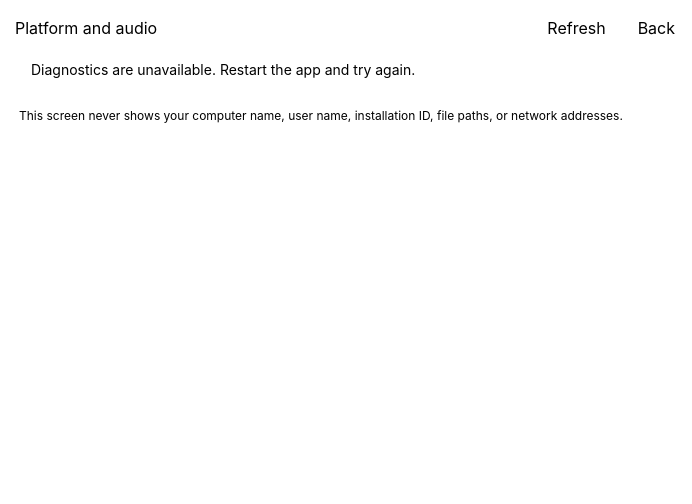
Test case: reports unavailable diagnostics and can refresh
Expected: the message shows "unavailable", x1=31 y1=61 x2=415 y2=78
Click the button "Refresh": click(576, 28) x1=535 y1=12 x2=618 y2=44
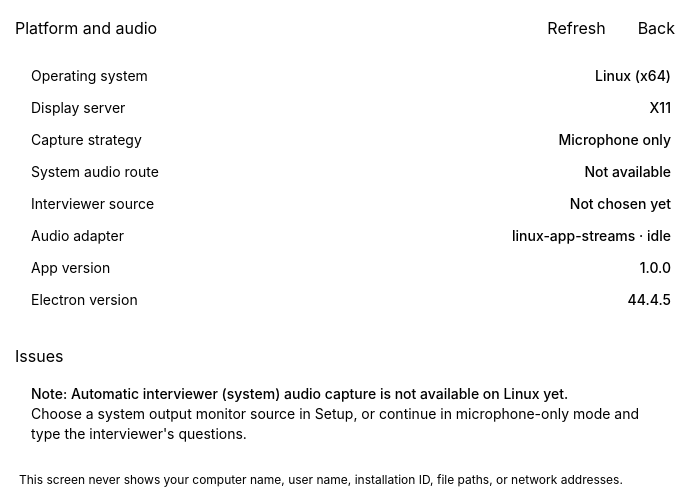
Expected: the text "Linux (x64)" is shown, x1=595 y1=66 x2=671 y2=86
